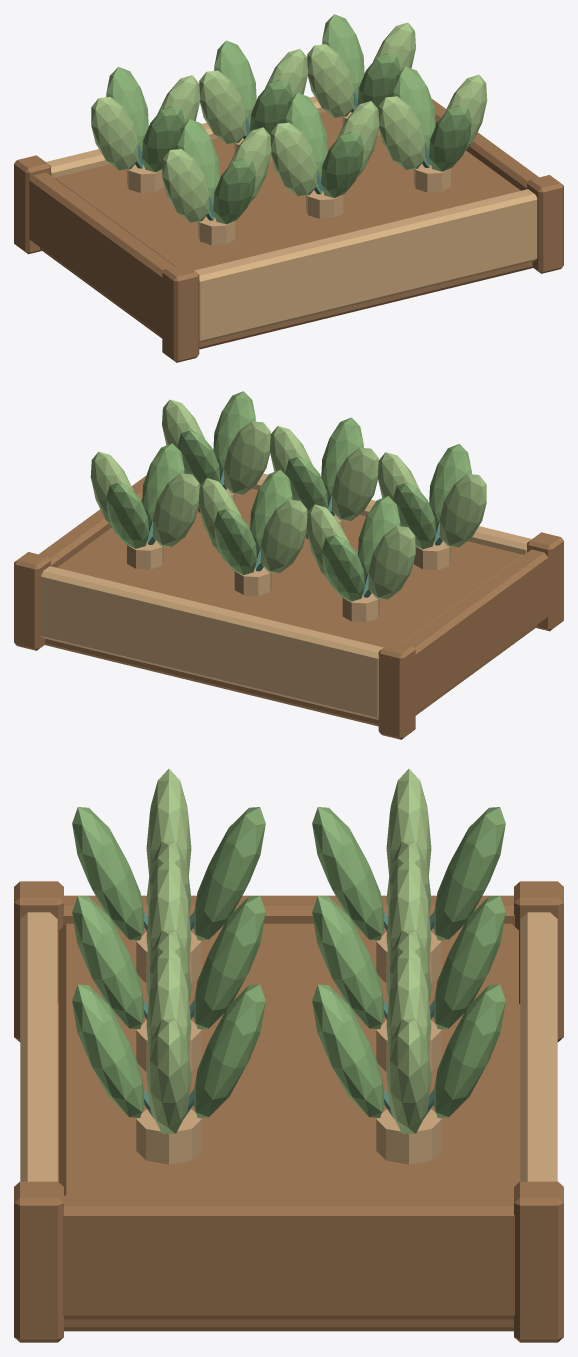
3 renders of one model, top to bottom at view 1: azimuth 30°, elevation 25°; view 2: azimuth 150°, elevation 25°; view 3: azimuth 270°, elevation 25°, orthographic. The views are drawn at different scales.
Parts seen in each view (by area): view 1: village-vegetable-bed-01; view 2: village-vegetable-bed-01; view 3: village-vegetable-bed-01.
Boxes of the visible parts, x1,y1,x2,y2 form: village-vegetable-bed-01: (14,14,563,362); village-vegetable-bed-01: (14,391,563,739); village-vegetable-bed-01: (14,769,563,1342).
Bounding box in the file's own units: 1.52 × 0.6374 × 1.1.
